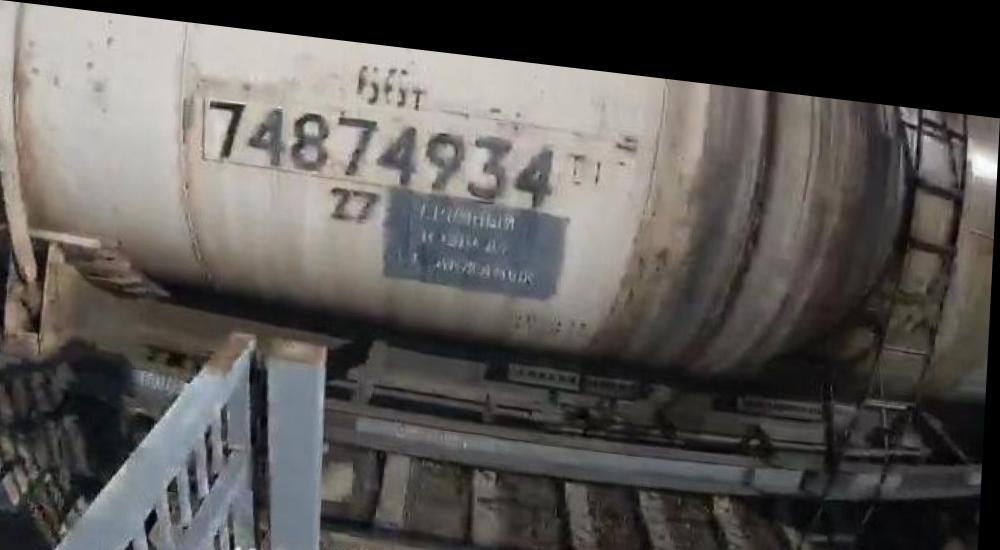Wagon-number: (201, 89, 561, 197)
